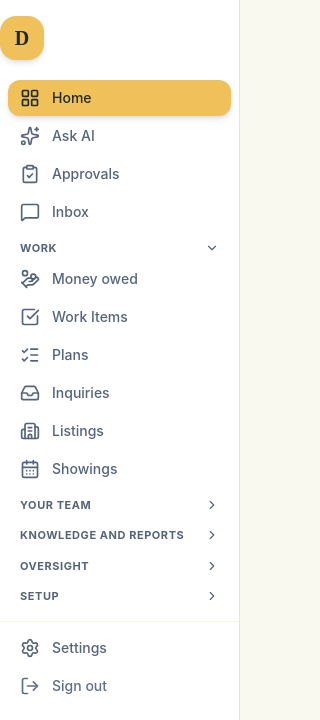
sidebar › starts with the everyday groups open and the rest folded, and a click opens or folds one
The width and height of the screenshot is (320, 720).
Click the button "Your team" at (120, 502), box [8, 488, 231, 515]
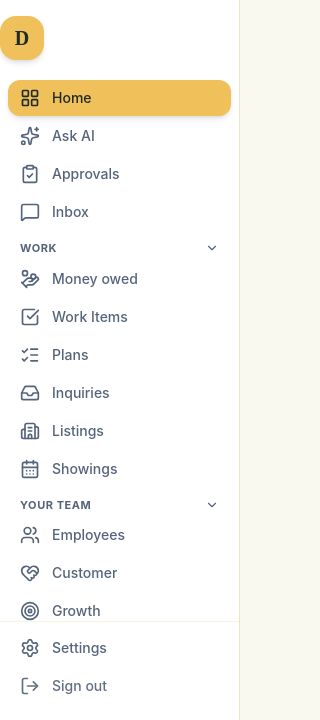
Now the button "Your team" is expanded, box [8, 488, 231, 515]
